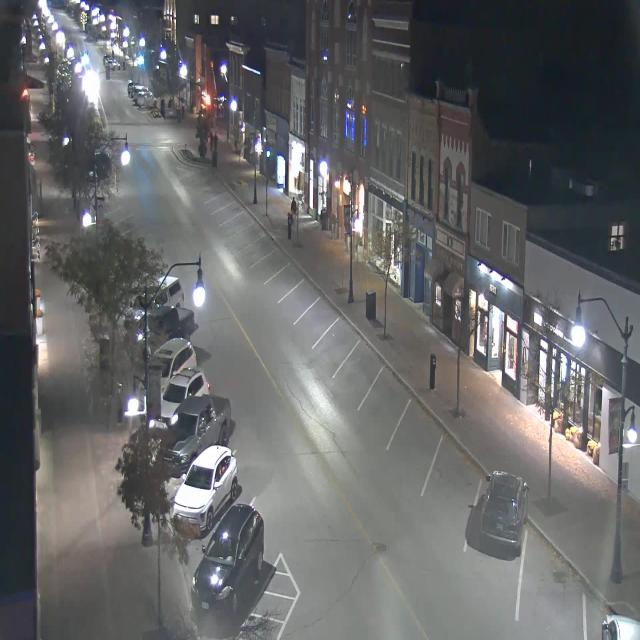available: (521, 520, 589, 632), (429, 429, 488, 508), (396, 394, 444, 460), (371, 357, 413, 419), (349, 332, 387, 379), (326, 310, 364, 350), (312, 288, 343, 323), (295, 270, 323, 302), (281, 255, 307, 285), (256, 224, 280, 256), (268, 240, 294, 268), (245, 213, 268, 240), (234, 203, 256, 230), (224, 192, 246, 218), (216, 184, 236, 205)
occupied: (191, 502, 264, 613), (172, 442, 238, 536), (164, 386, 238, 456), (479, 468, 529, 554), (158, 360, 217, 420), (136, 297, 197, 354), (121, 265, 187, 315), (150, 328, 203, 389), (585, 600, 640, 639)
